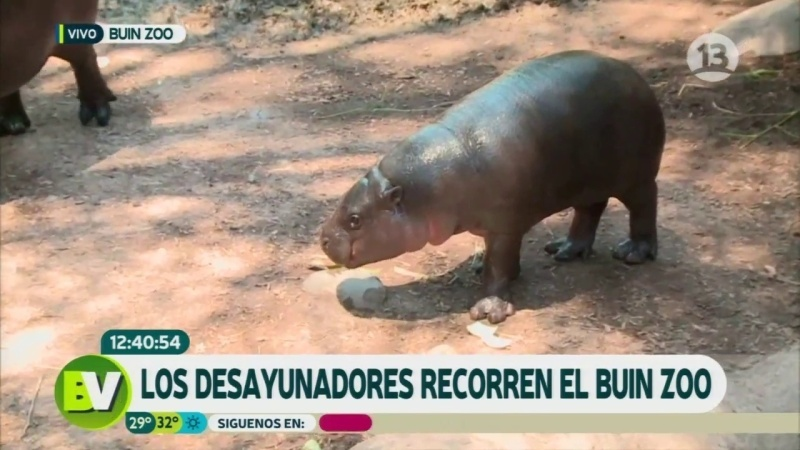hipopotamo: (290, 38, 681, 329)
